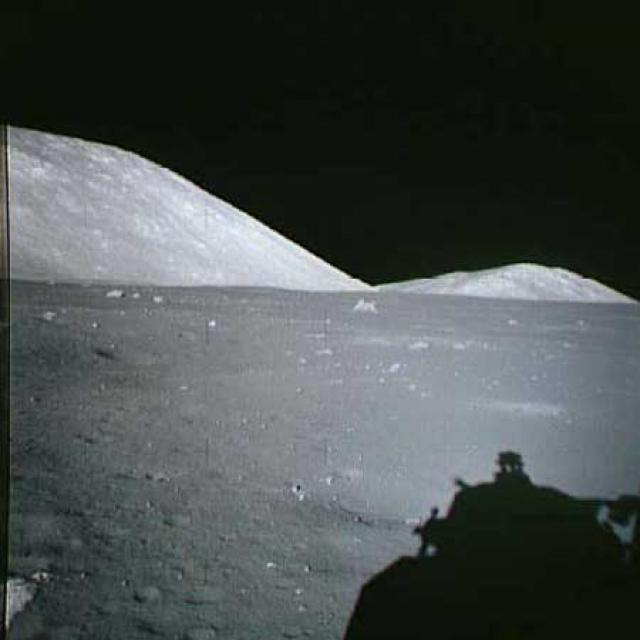crater: (94, 337, 166, 369)
rock: (346, 294, 382, 318), (102, 284, 126, 300)
